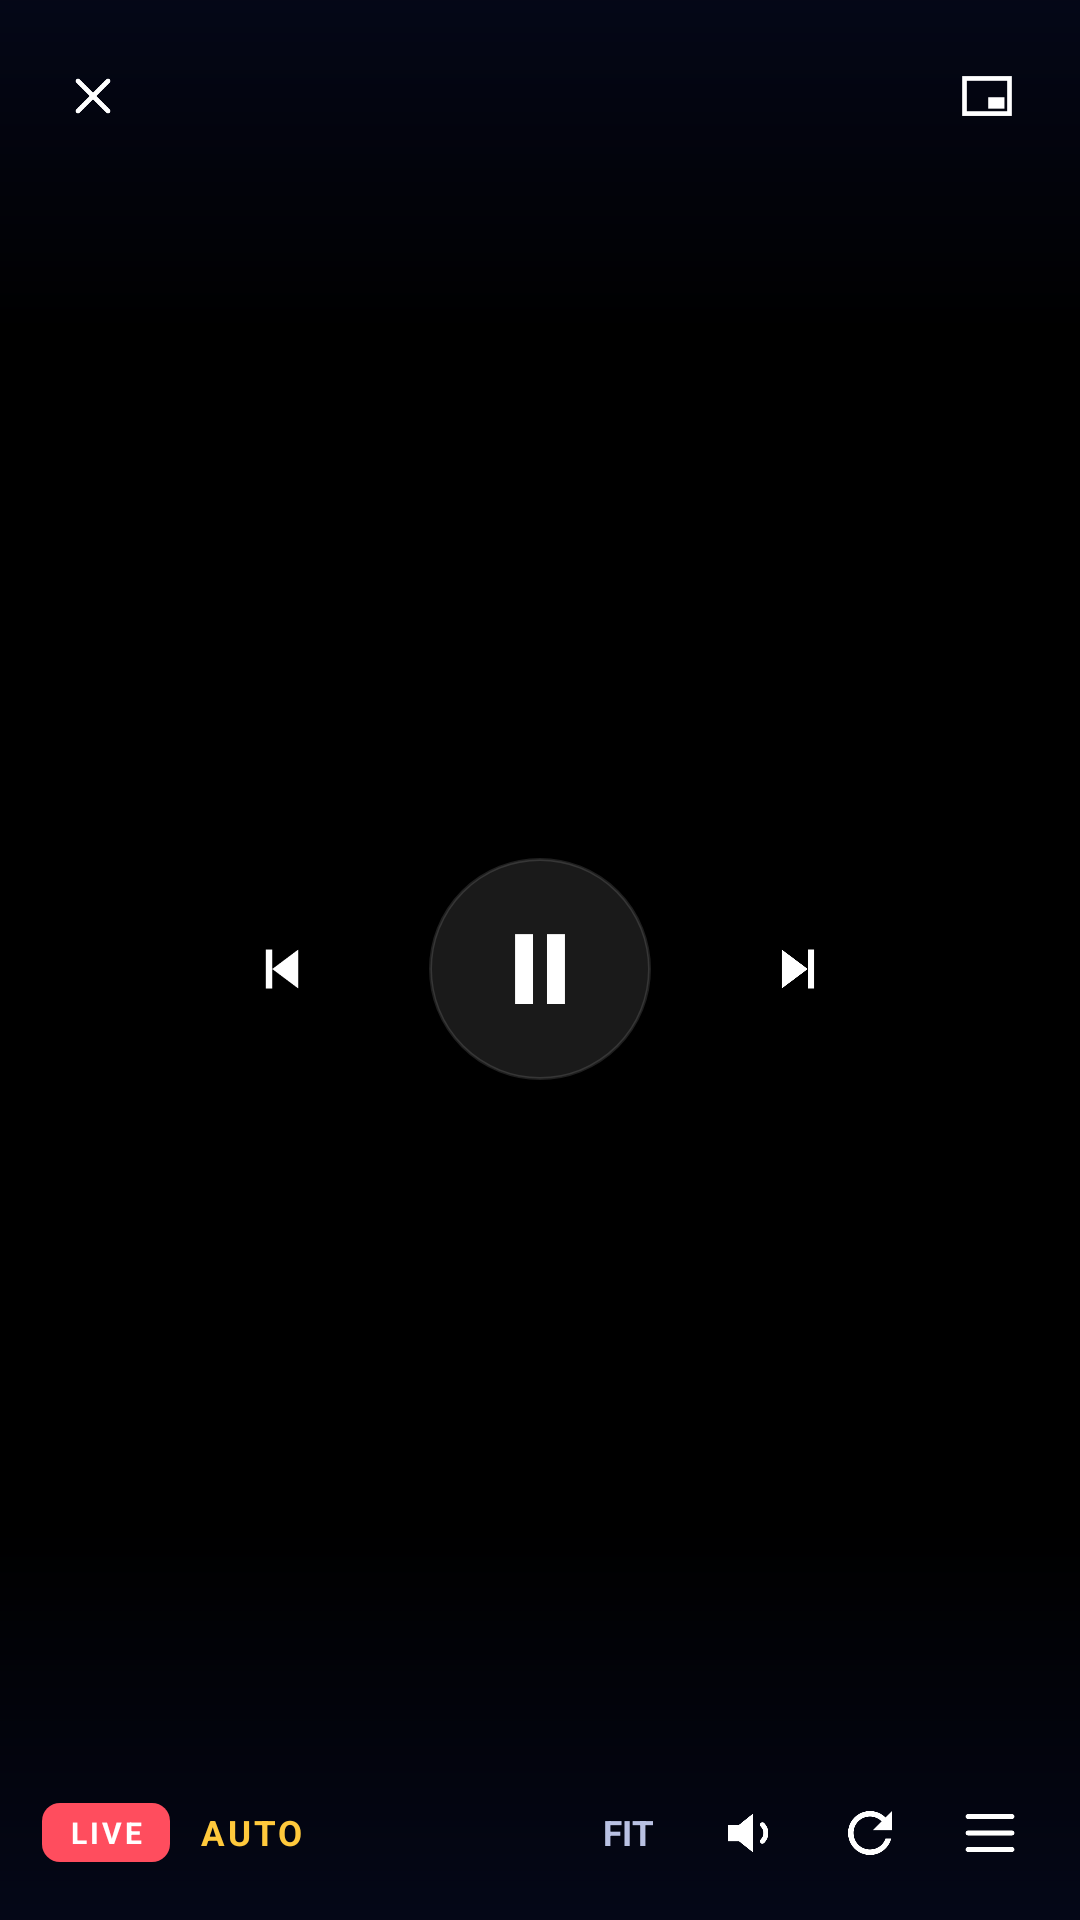

Icon click points for this 1080 × 1920 phone screenshot, format [x,y]:
Berikutnya: [798,969]
close: [93,96]
Daftar saluran: [990,1833]
pip: [987,96]
Sebelumnya: [282,969]
Suara: [748,1833]
